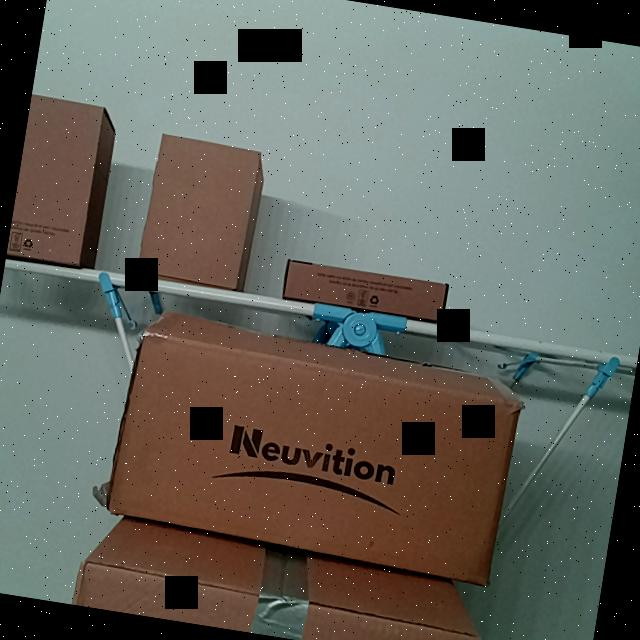box: (112, 330, 520, 580), (75, 567, 483, 640), (140, 134, 262, 290), (6, 94, 106, 267), (283, 260, 448, 322)
